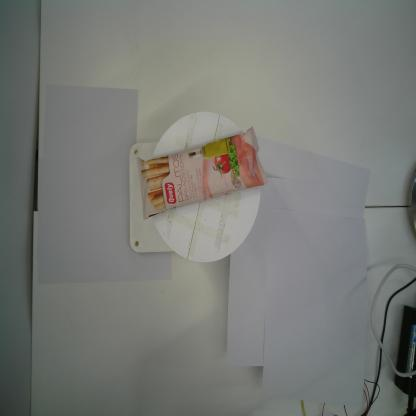Dessert: (136, 124, 270, 224)
